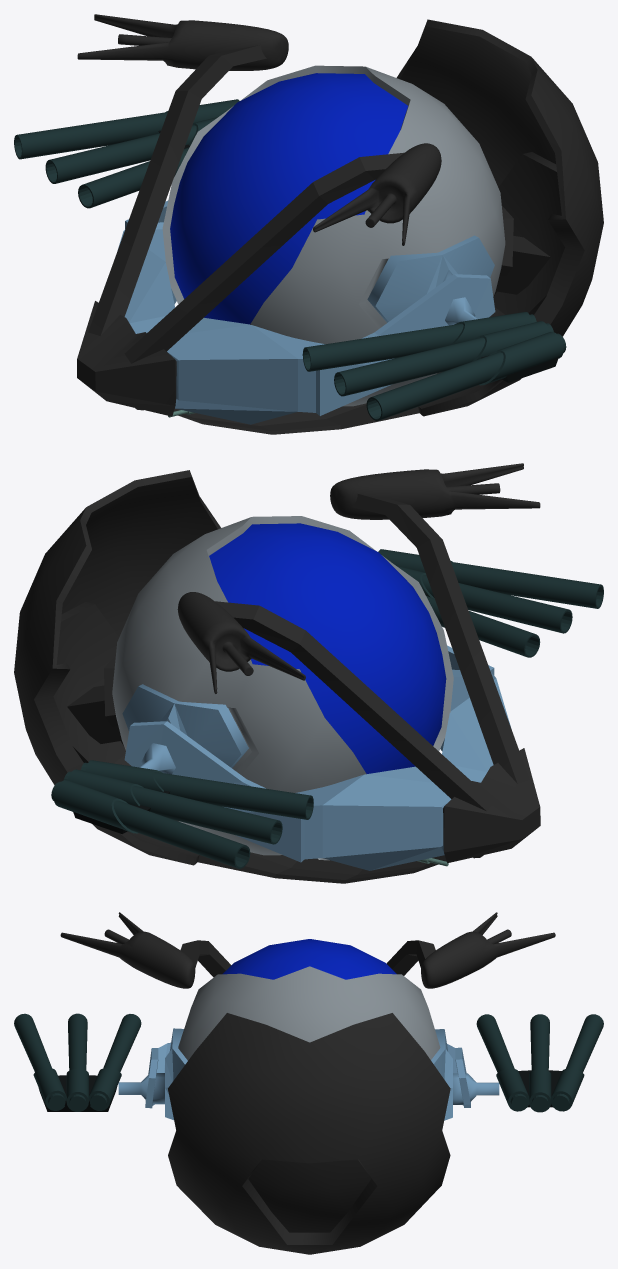
The model's file is mainShip.FBX.
The picture shows the model from 3 angles, top to bottom: view 1: azimuth 30°, elevation 25°; view 2: azimuth 150°, elevation 25°; view 3: azimuth 270°, elevation 25°; orthographic projection. The views are drawn at different scales.
Parts seen in each view (by area): view 1: stage1, stage3BaseGun2, stage3Back, stage2Base, stage2BaseGun1, Cylinder004, Cylinder001, Cylinder003, Cylinder007, Cylinder006, stage3Adapter, Cylinder005; view 2: stage1, stage3BaseGun2, stage3Back, stage2Base, Cylinder007, stage2BaseGun2, Cylinder005, Cylinder006, Cylinder004, Cylinder003, stage3Adapter, Cylinder001; view 3: stage3Back, stage1, stage3BaseGun2, Cylinder007, Cylinder005, Cylinder004, Cylinder001, Cylinder006, Cylinder003, stage2BaseGun1, stage2BaseGun2, stage2Base (+1 smaller).
Boxes of the visible parts, x1,y1,x2,y2 form: stage1: [162, 65, 505, 406]; stage3BaseGun2: [77, 14, 441, 416]; stage3Back: [174, 19, 603, 434]; stage2Base: [117, 200, 495, 424]; stage2BaseGun1: [367, 235, 494, 325]; Cylinder004: [366, 332, 566, 420]; Cylinder001: [302, 312, 536, 371]; Cylinder003: [334, 321, 553, 396]; Cylinder007: [14, 99, 239, 159]; Cylinder006: [45, 117, 217, 183]; stage3Adapter: [493, 205, 550, 296]; Cylinder005: [78, 147, 189, 208]; stage1: [112, 516, 453, 860]; stage3BaseGun2: [177, 463, 540, 863]; stage3Back: [14, 470, 446, 883]; stage2Base: [124, 645, 511, 870]; Cylinder007: [51, 780, 250, 868]; stage2BaseGun2: [122, 684, 248, 774]; Cylinder005: [81, 760, 313, 819]; Cylinder006: [64, 769, 282, 844]; Cylinder004: [378, 549, 603, 608]; Cylinder003: [396, 565, 572, 633]; stage3Adapter: [67, 655, 123, 745]; Cylinder001: [426, 596, 540, 657]; stage3Back: [168, 1013, 450, 1254]; stage1: [178, 939, 440, 1060]; stage3BaseGun2: [60, 912, 555, 988]; Cylinder007: [551, 1014, 603, 1111]; Cylinder005: [476, 1014, 529, 1111]; Cylinder004: [14, 1013, 66, 1110]; Cylinder001: [88, 1014, 141, 1110]; Cylinder006: [529, 1014, 551, 1112]; Cylinder003: [66, 1013, 88, 1111]; stage2BaseGun1: [118, 1028, 187, 1120]; stage2BaseGun2: [431, 1029, 499, 1120]; stage2Base: [145, 1042, 470, 1108].
Size of the model in its own units: 83.59 by 54.62 by 109.
